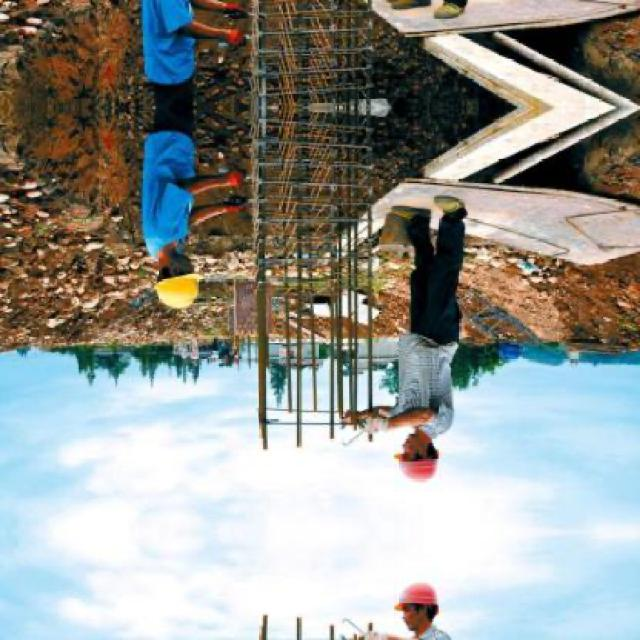con casco: (138, 231, 228, 322), (382, 420, 466, 508)
